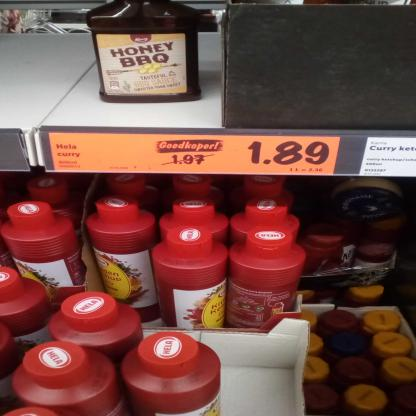prtg: (50, 134, 341, 177), (360, 138, 415, 177)
